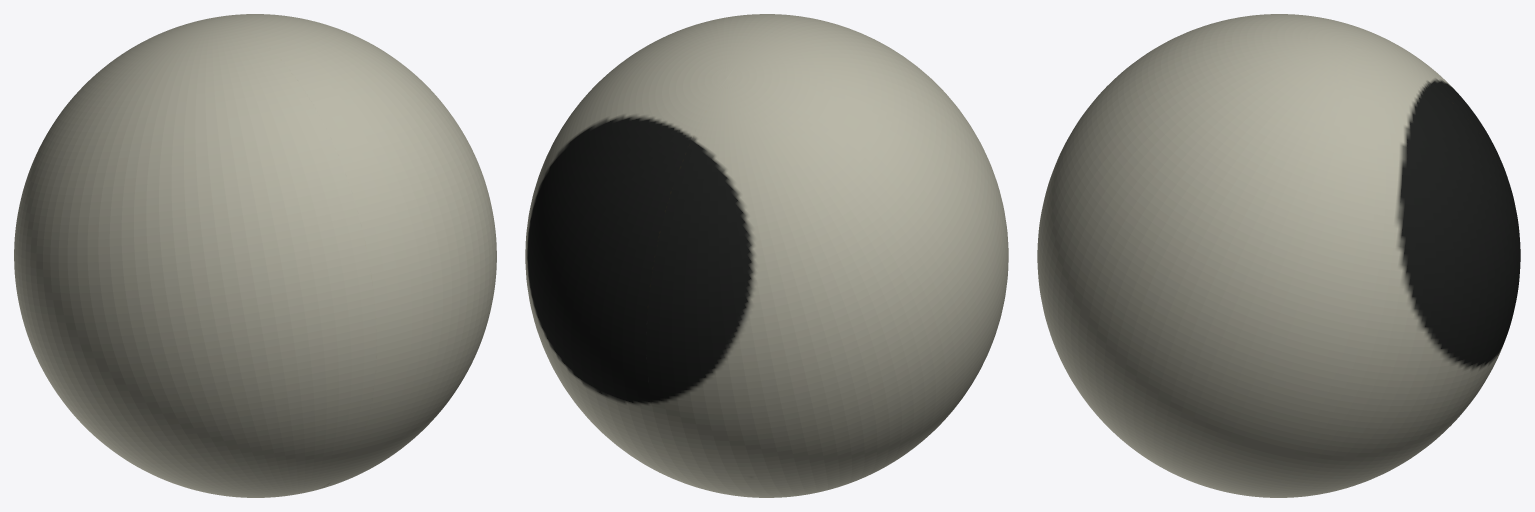
File: EyeFrog.fbx
3 renders of one model, left to right at view 1: azimuth 30°, elevation 25°; view 2: azimuth 150°, elevation 25°; view 3: azimuth 270°, elevation 25°, orthographic.
Visible parts, largest first — view 1: R_Eye_Sphere_003; view 2: R_Eye_Sphere_003; view 3: R_Eye_Sphere_003.
Boxes of the visible parts, x1,y1,x2,y2 form: R_Eye_Sphere_003: (14, 14, 496, 497); R_Eye_Sphere_003: (525, 14, 1008, 497); R_Eye_Sphere_003: (1037, 14, 1520, 497).
Size of the model in its own units: 0.4503 by 0.4513 by 0.4504.
